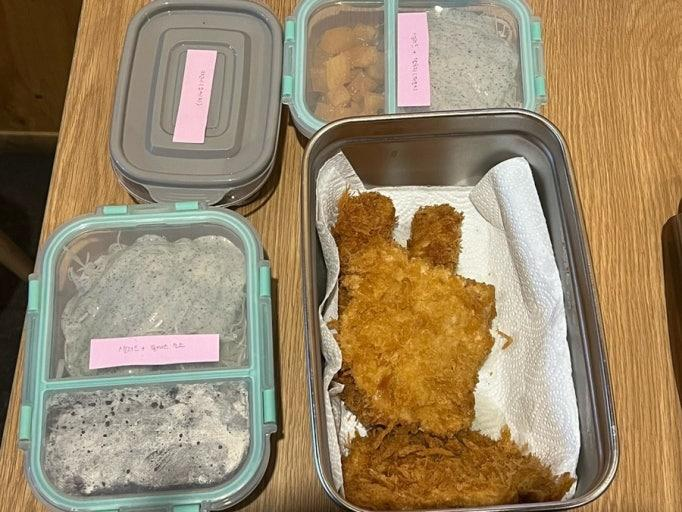Lunch Box: (302, 111, 615, 511)
